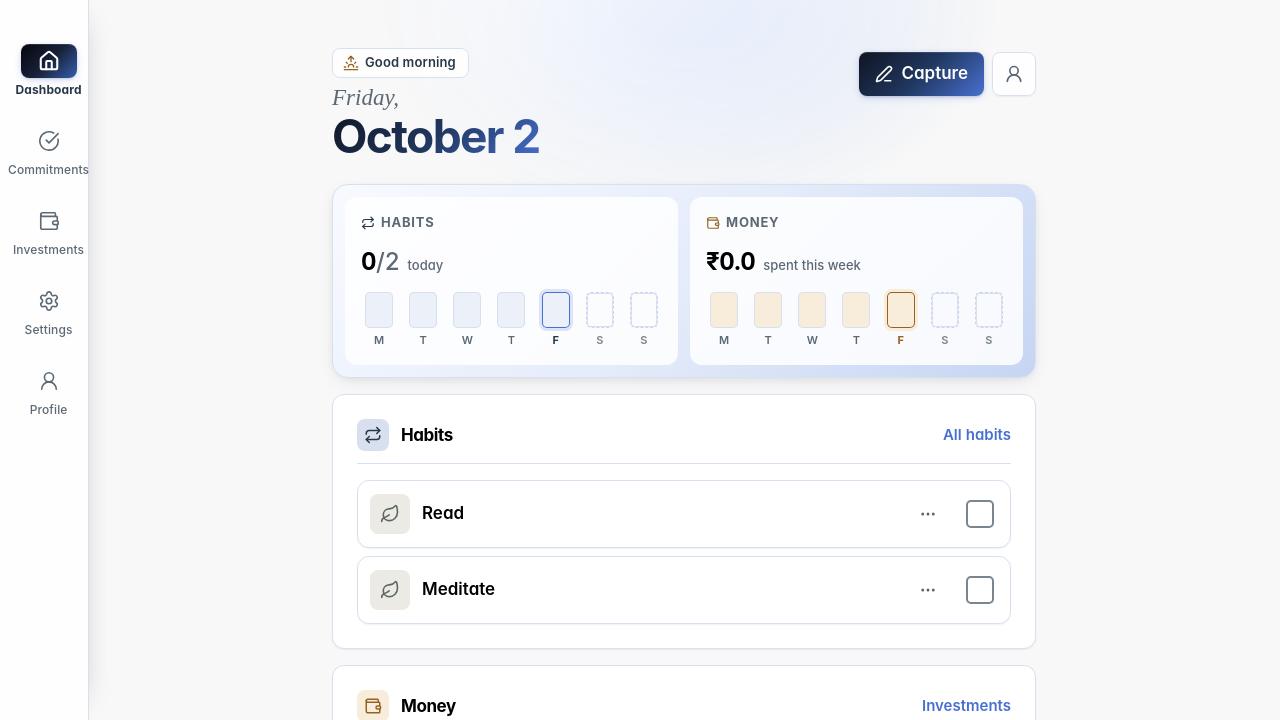
completing habits on Today › records a skip honestly and leaves it out of the done count
Step 1. Click the button named "More options for Meditate" → (928, 590), box [910, 572, 946, 608]
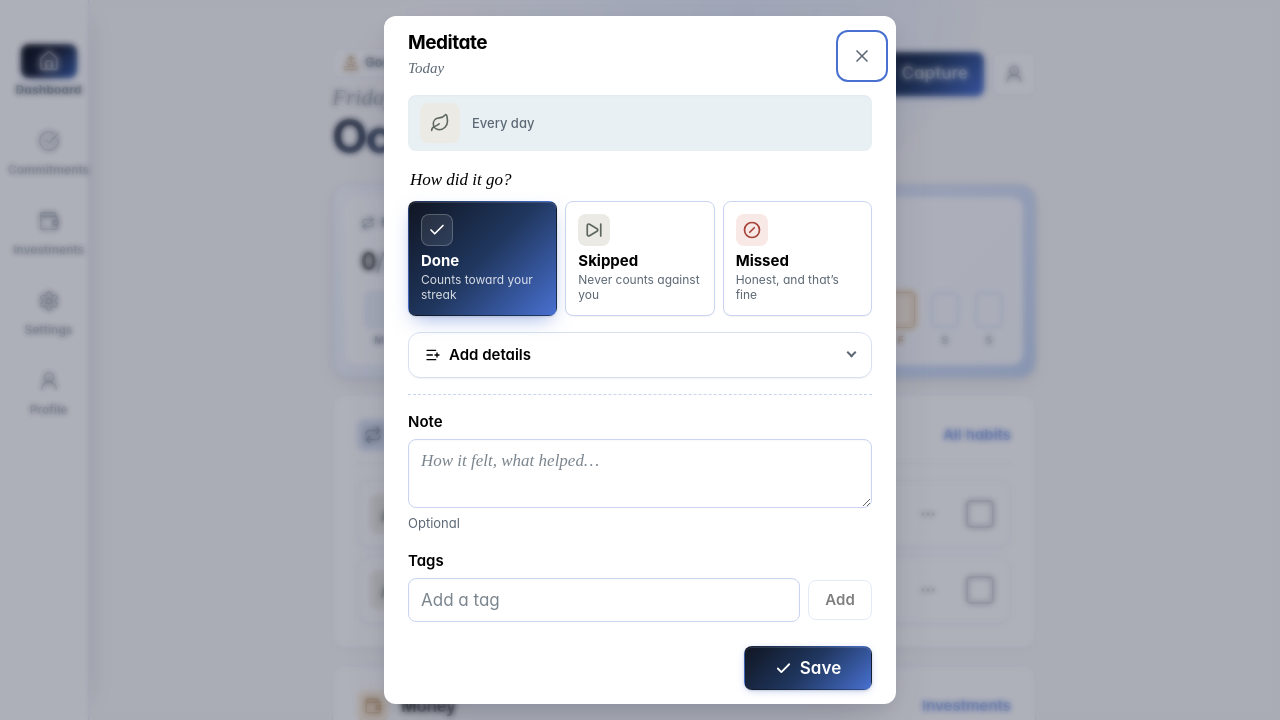
Step 2. Click the radio button labelled "Skipped" → (640, 258), box [565, 201, 715, 316]
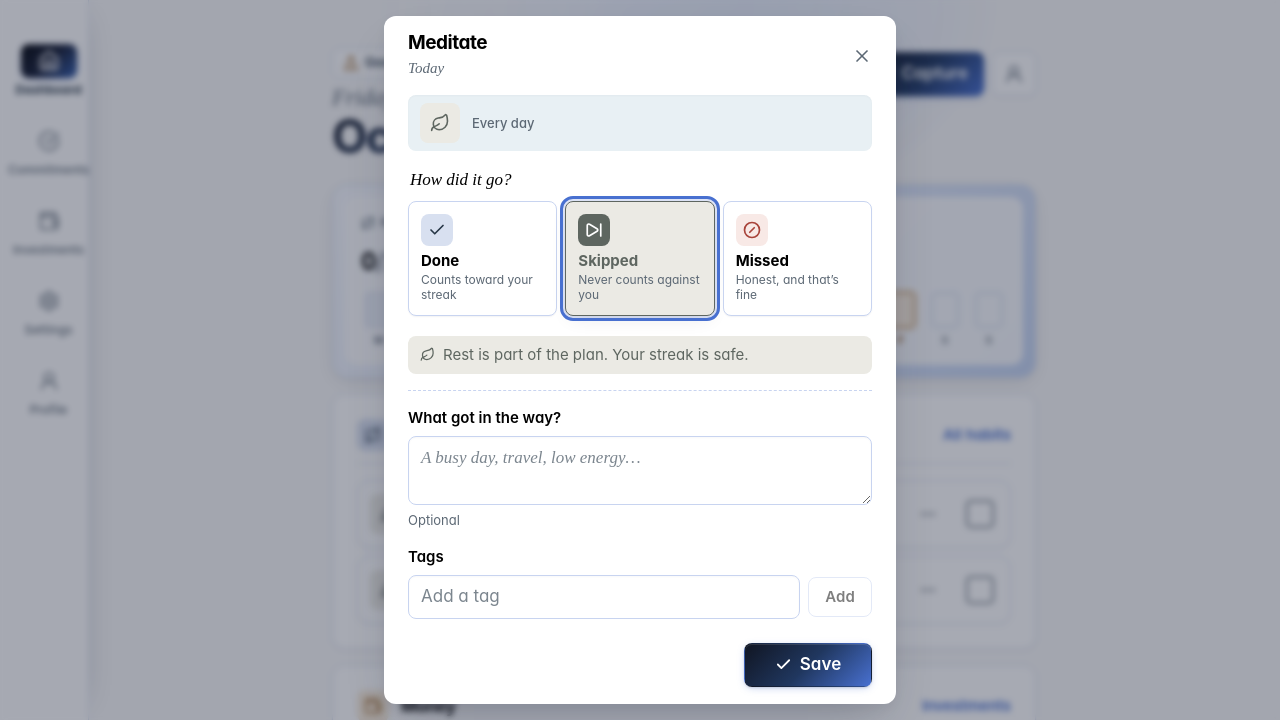
Step 3. Type "Travel day" into the text box labelled "What got in the way?" → (640, 470), box [408, 436, 872, 505]
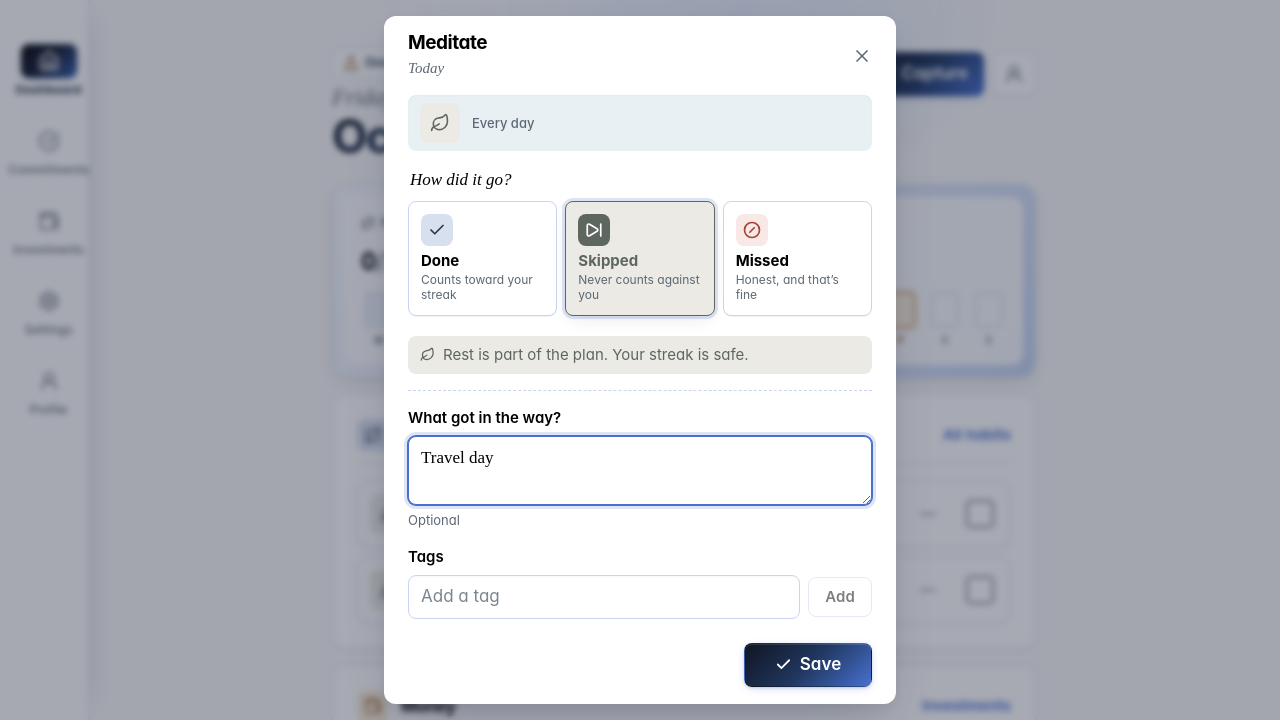
Step 4. Click the button "Save" → (808, 665), box [744, 643, 872, 687]
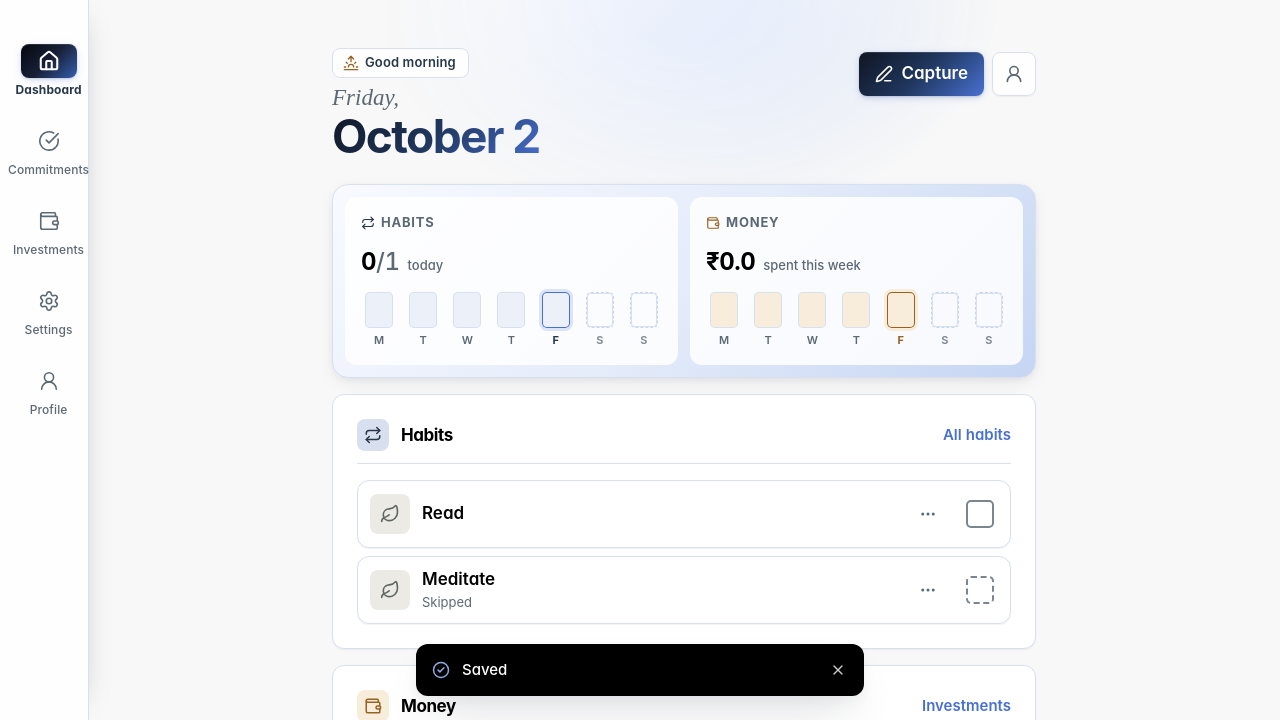
Expected: the checkbox named "Mark Meditate done" is not checked, [966, 576, 994, 604]
Now the list item "Meditate Skipped" is shown, box [357, 556, 1011, 624]
Now the picture named "0 of 1 habits done today" is shown, box [361, 244, 400, 280]
